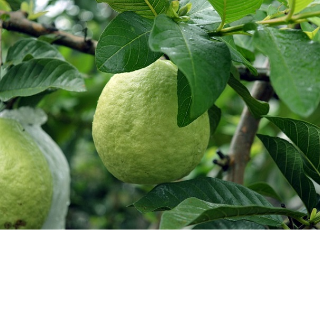oi: (85, 47, 213, 186)
